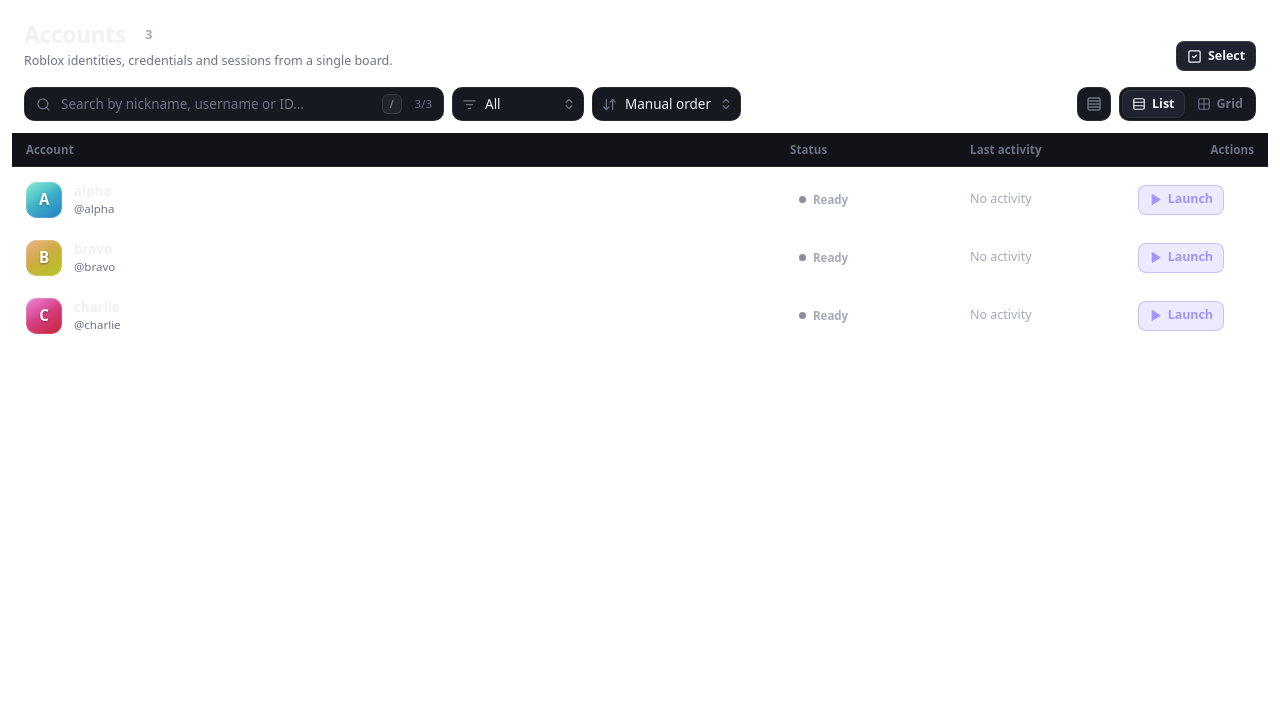
Test case: Accounts selection mode + bulk action bar (Req 10.1, 10.2, 10.3, 10.5) › shows the bulk bar with count and controls while a selection exists (10.2)
Click the button "Select".
click(1216, 56)  # box [1176,41,1256,71]
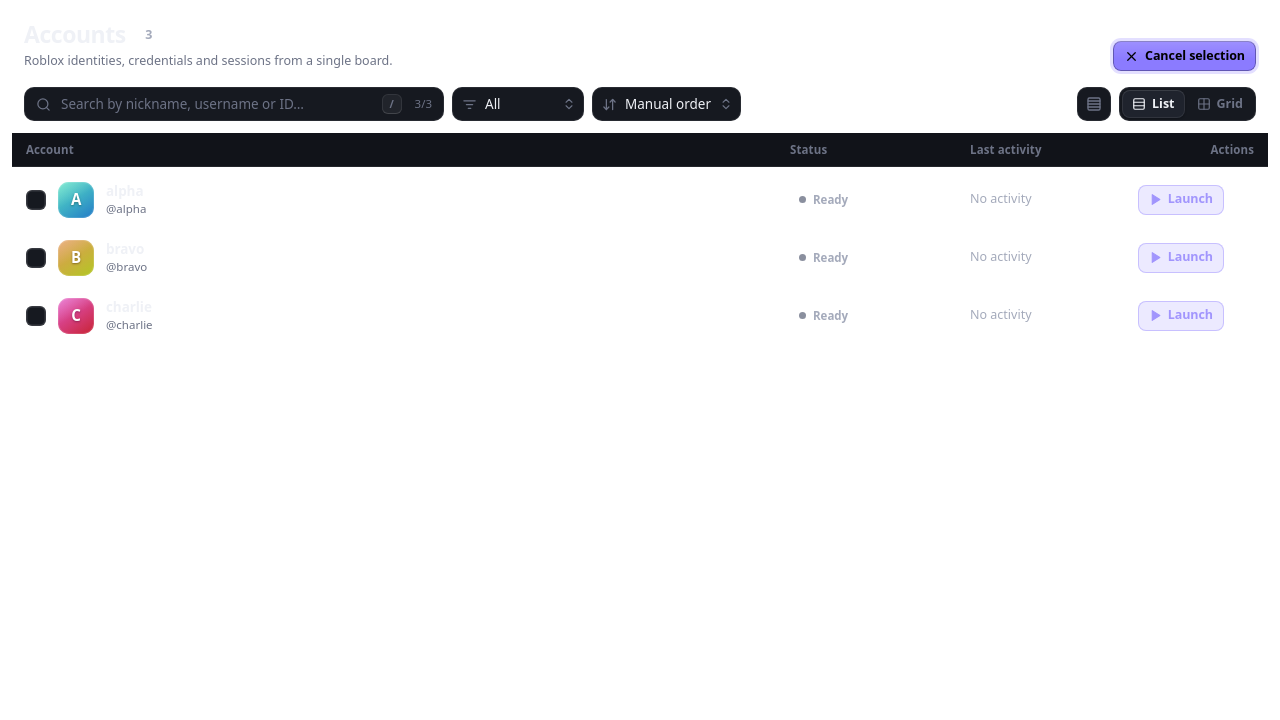
Click the checkbox named "Select" in the row of "@alpha".
click(36, 200)  # box [26,190,46,210]
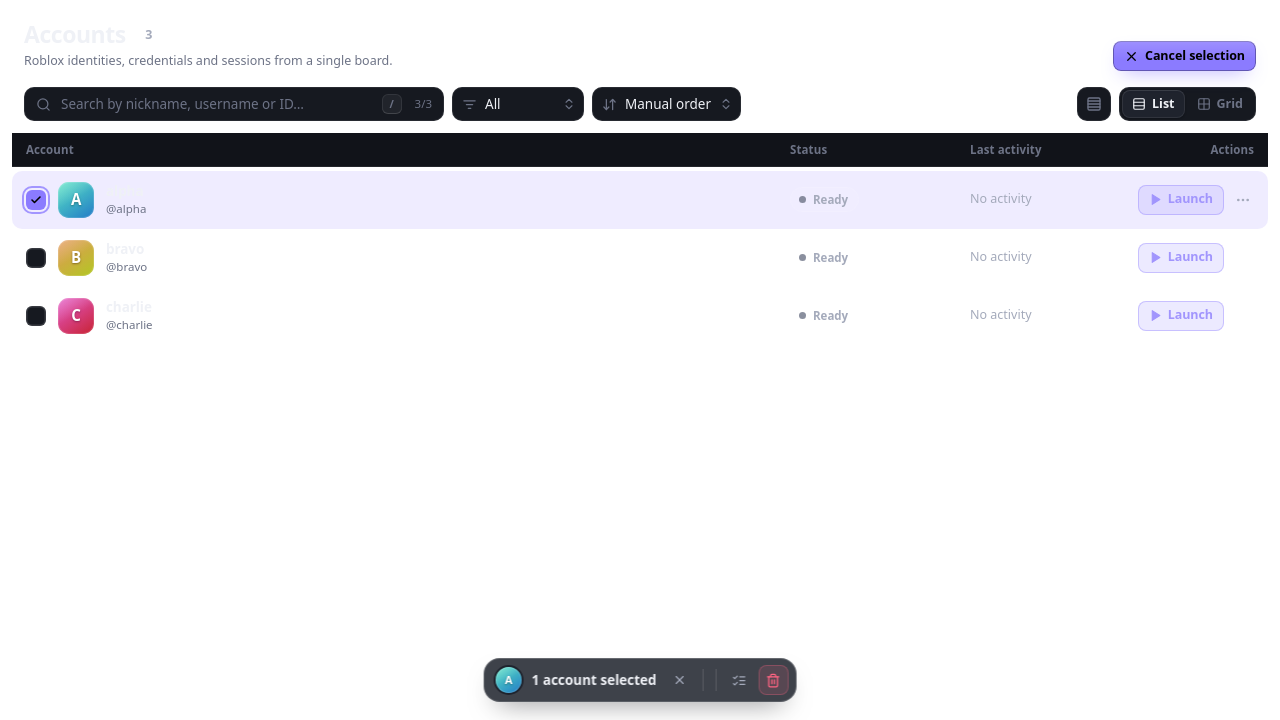
Expected: the element named "Bulk actions" is shown, [484,658,796,702]
Expected: the text "1 account selected" is shown, [526,670,660,690]
Expected: the button named "Clear selection" is shown, [664,665,694,695]
Click the checkbox named "Select" in the row of "@bravo".
click(36, 258)  # box [26,248,46,268]
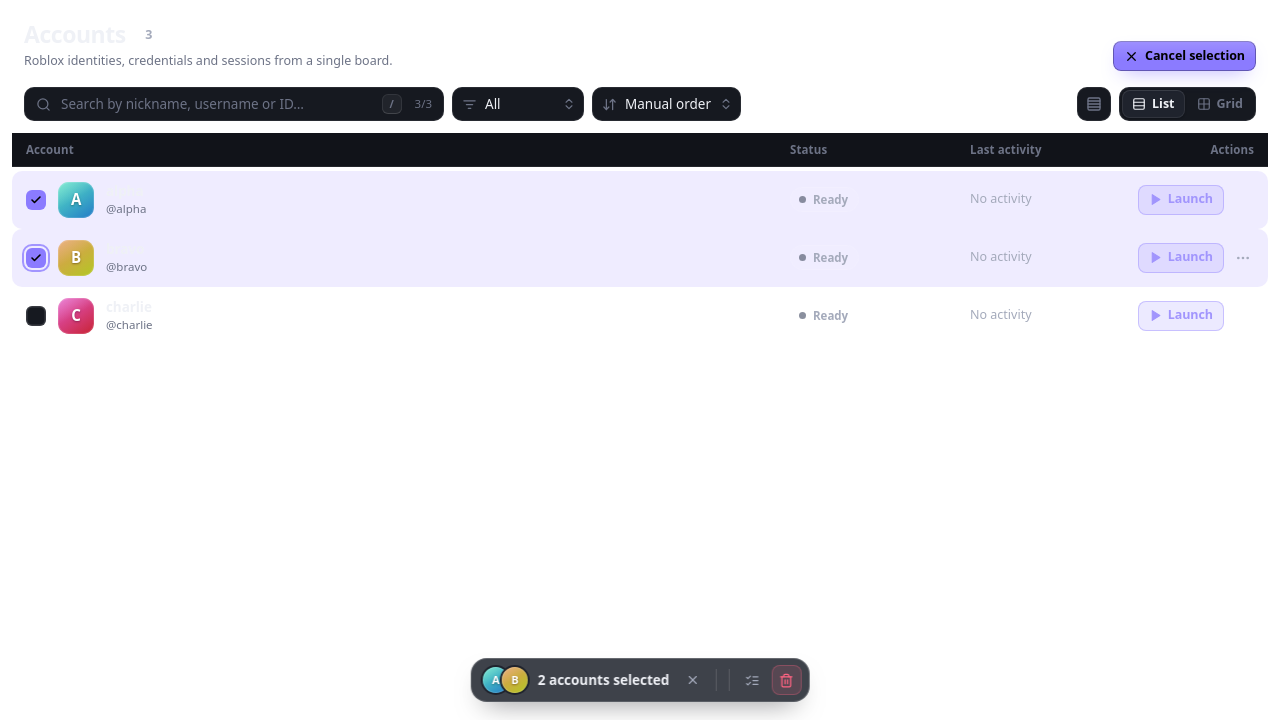
Expected: the text "2 accounts selected" is shown, [532,670,673,690]
